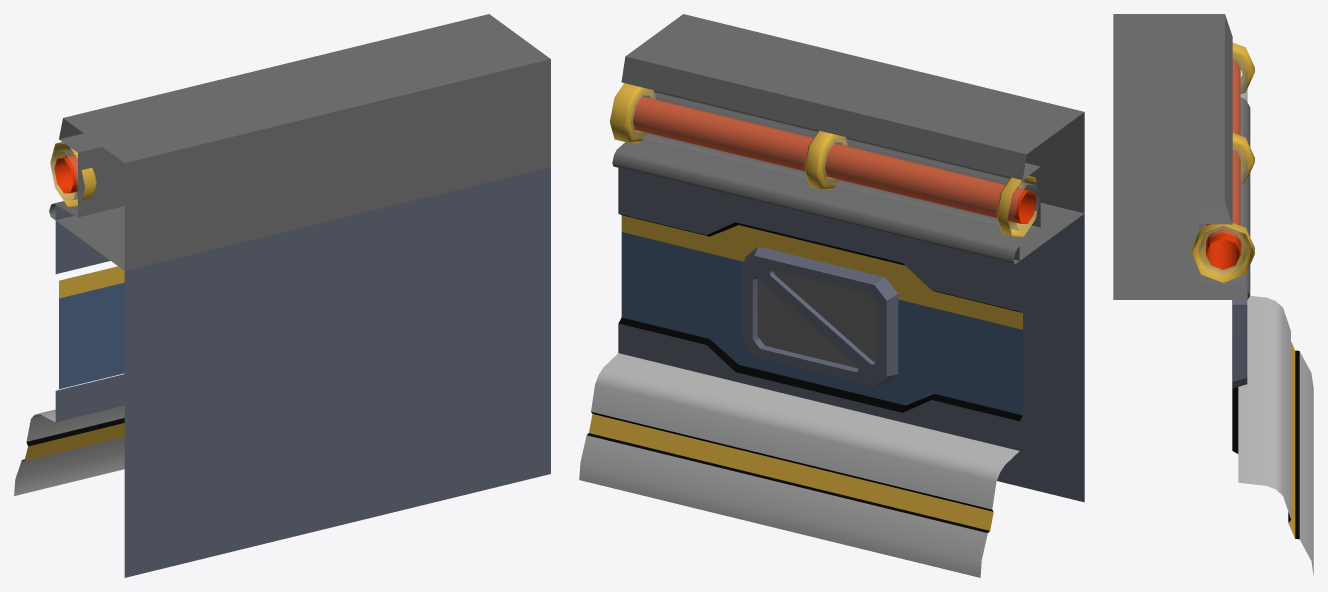
Rendered from Wall_withdetails2.fbx.
3 renders of one model, left to right at view 1: azimuth 30°, elevation 25°; view 2: azimuth 150°, elevation 25°; view 3: azimuth 270°, elevation 25°, orthographic. The views are drawn at different scales.
Visible parts, largest first — view 1: Wall_withdetails2; view 2: Wall_withdetails2; view 3: Wall_withdetails2.
Part boxes in pixels (bbox=[...]): Wall_withdetails2: bbox=[14, 14, 550, 577]; Wall_withdetails2: bbox=[579, 14, 1084, 577]; Wall_withdetails2: bbox=[1113, 14, 1313, 575].
Size of the model in its own units: 733 by 682 by 330.
